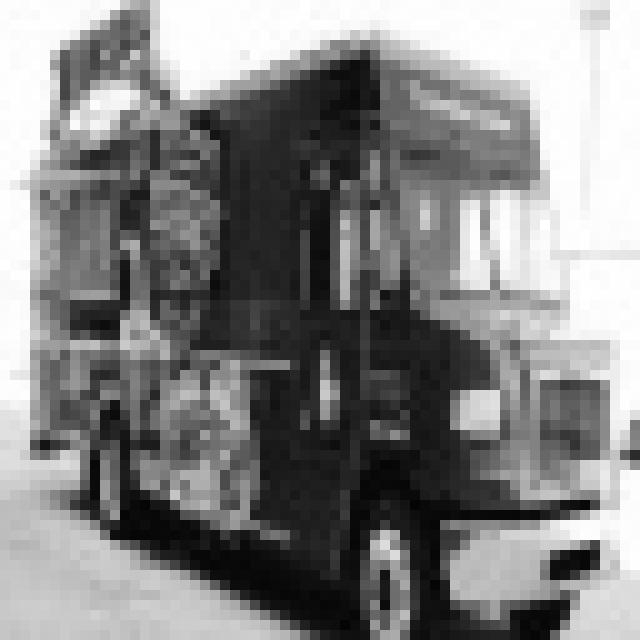trucks: (22, 32, 620, 638)
